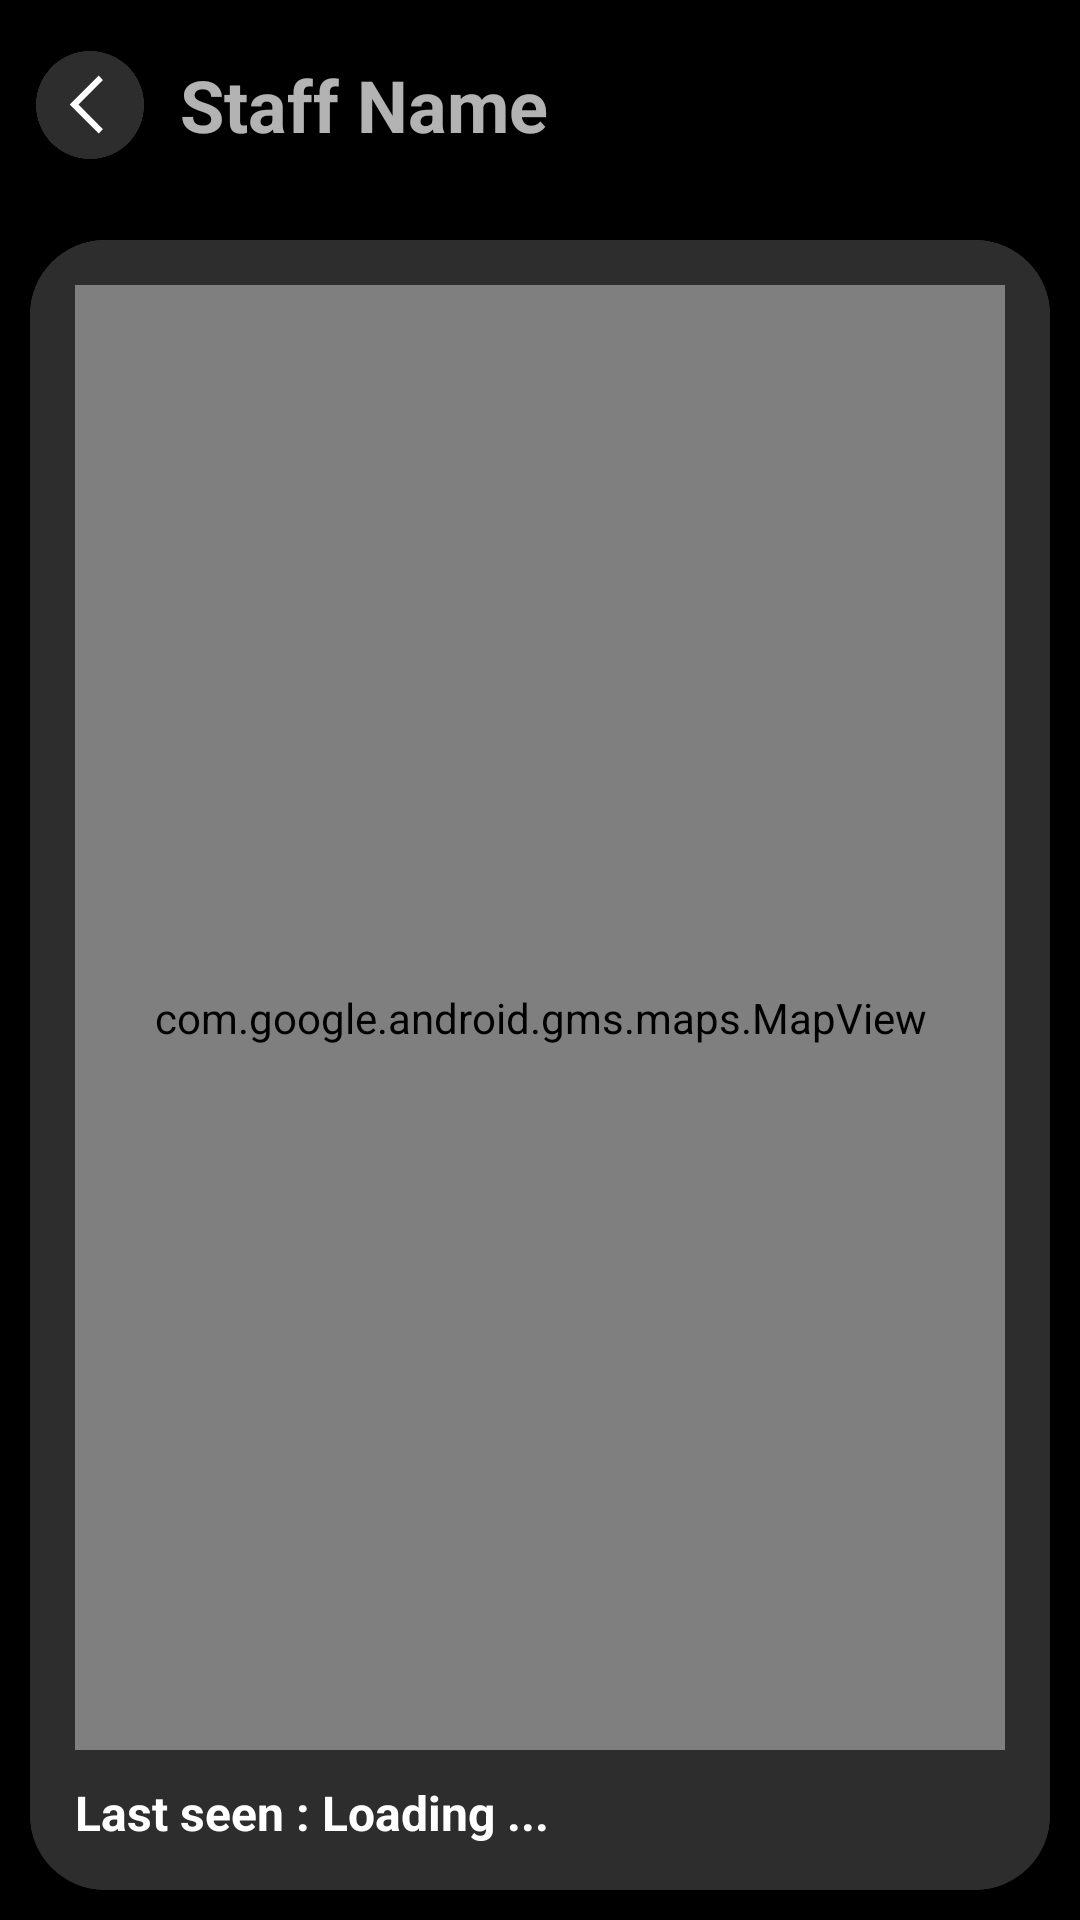

Screen size 1080 x 1920. Icon name, then its box in pixels as (x1, y1, x2, y2):
back: (36, 51, 144, 159)
